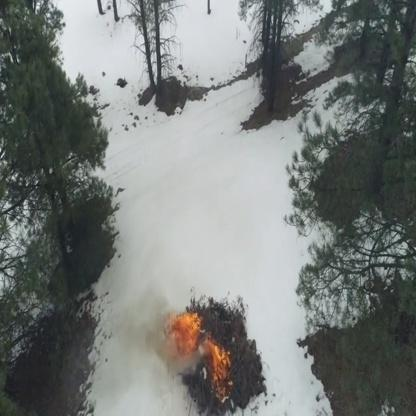Fire: (163, 312, 202, 334), (213, 348, 230, 378), (176, 332, 198, 353), (208, 338, 222, 370), (212, 378, 231, 396)
